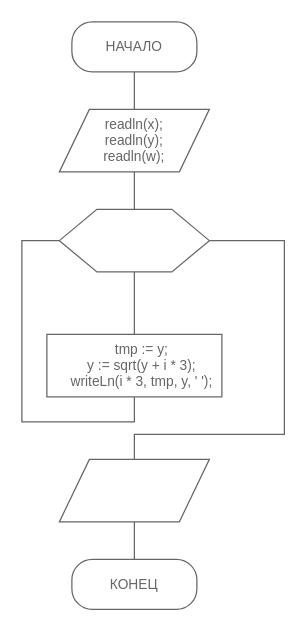
Image size: 308x631. Some labels were removed from this diagram. Each missing label, with the box of its shape:
i:=21;1;-1: (58, 208, 209, 272)
Результат: ', y: (58, 458, 209, 522)
